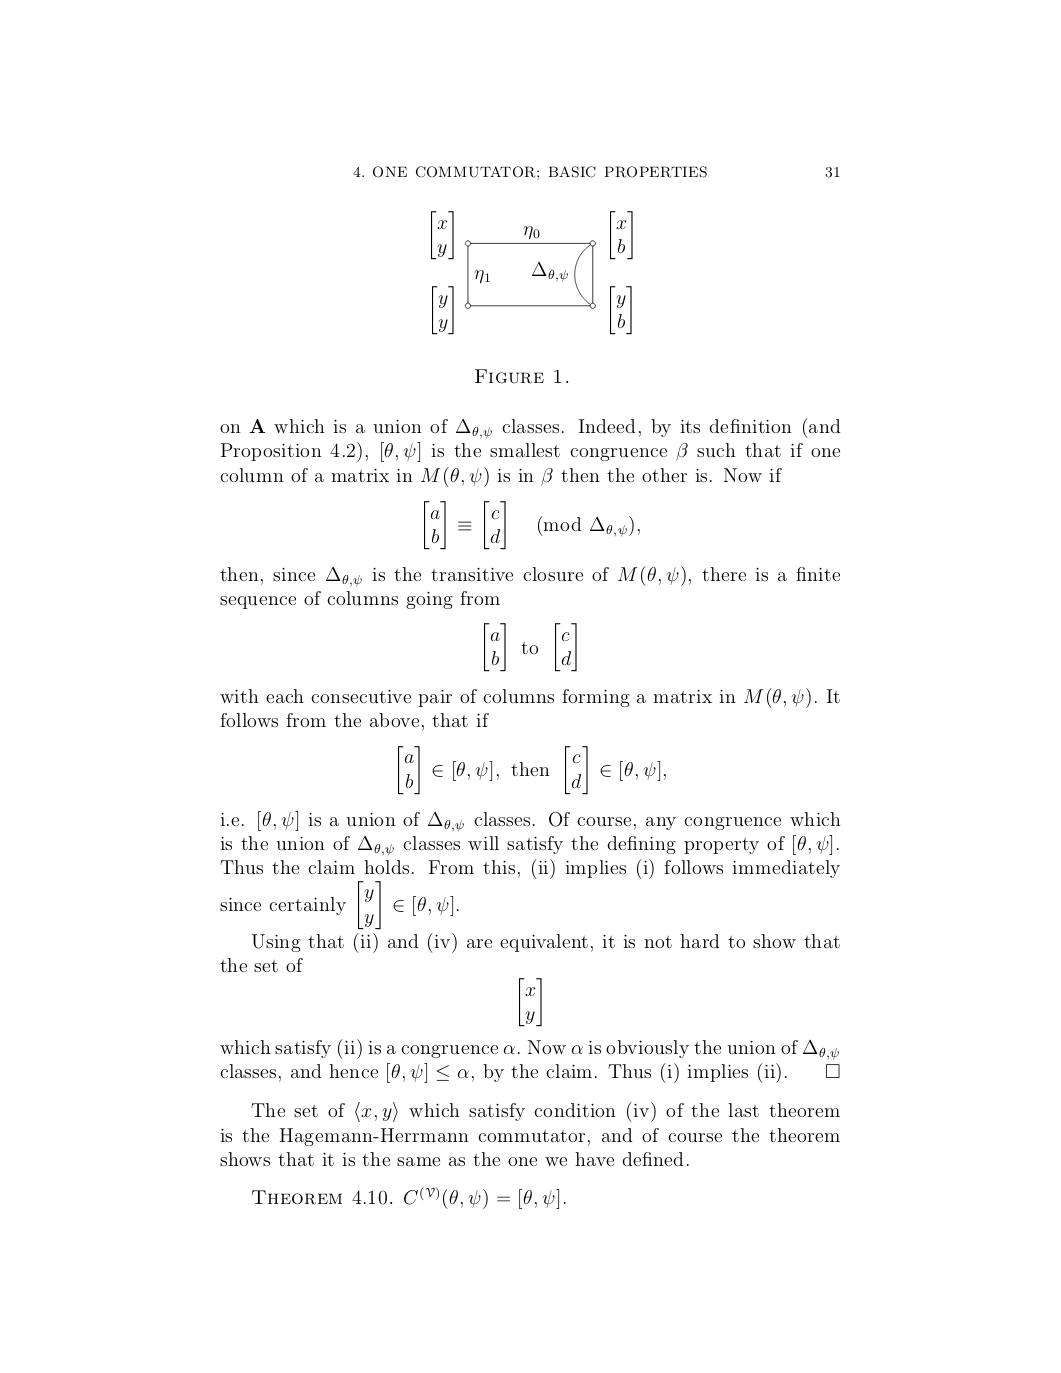figure: (431, 210, 632, 335)
formula: (398, 744, 665, 795), (424, 500, 639, 551), (484, 622, 576, 672), (519, 977, 541, 1028)
